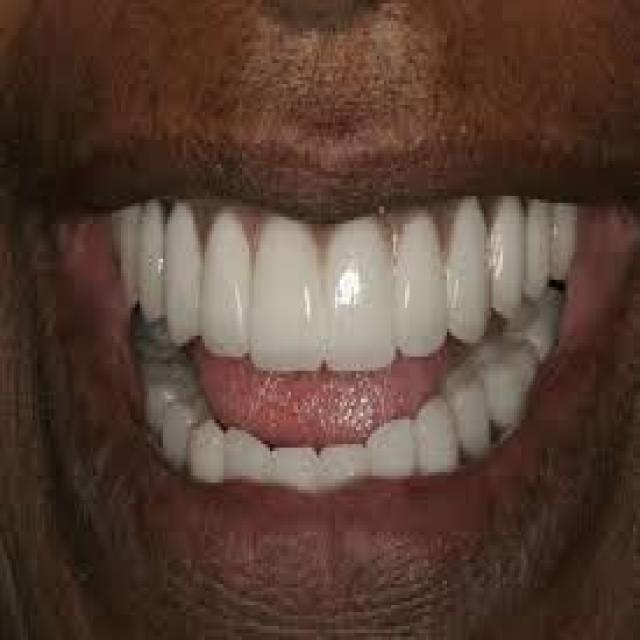tooth: (251, 214, 328, 388), (323, 213, 398, 385), (393, 206, 449, 368), (198, 214, 256, 368), (449, 196, 494, 350), (163, 196, 202, 350), (491, 192, 528, 329), (138, 203, 172, 318), (368, 412, 423, 482), (268, 434, 328, 496), (452, 371, 498, 451), (319, 434, 379, 486), (417, 402, 463, 469), (226, 423, 272, 490), (184, 416, 228, 486), (158, 392, 198, 468)
